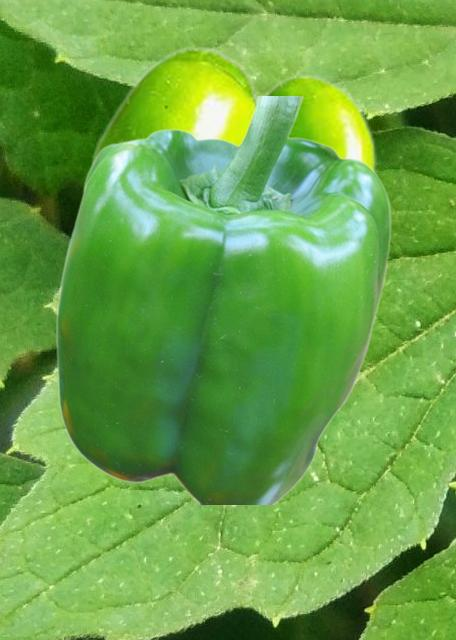bell_pepper: (55, 96, 390, 503), (87, 45, 375, 170)
